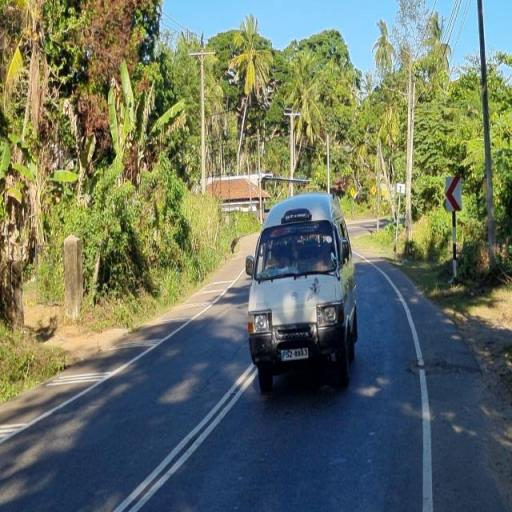double_white_line: (110, 361, 256, 510)
